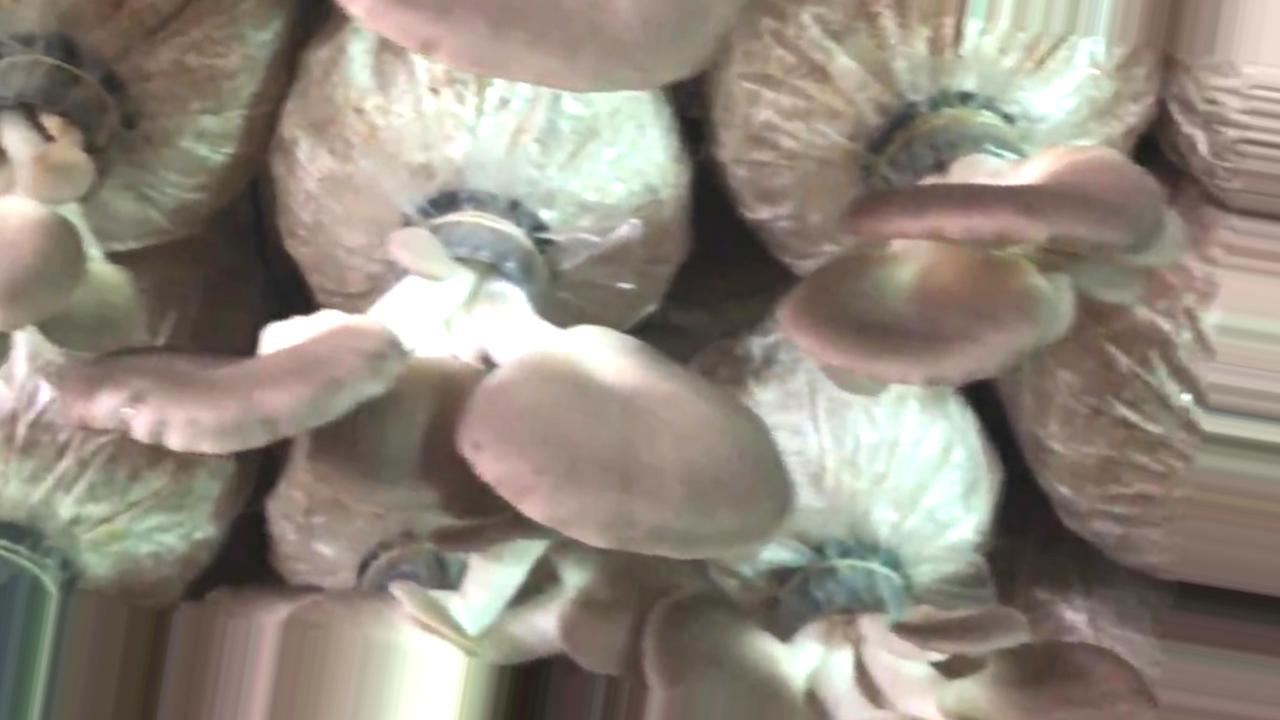nam: (67, 213, 803, 563), (774, 84, 1170, 392), (645, 566, 1163, 707), (1, 38, 143, 336)
